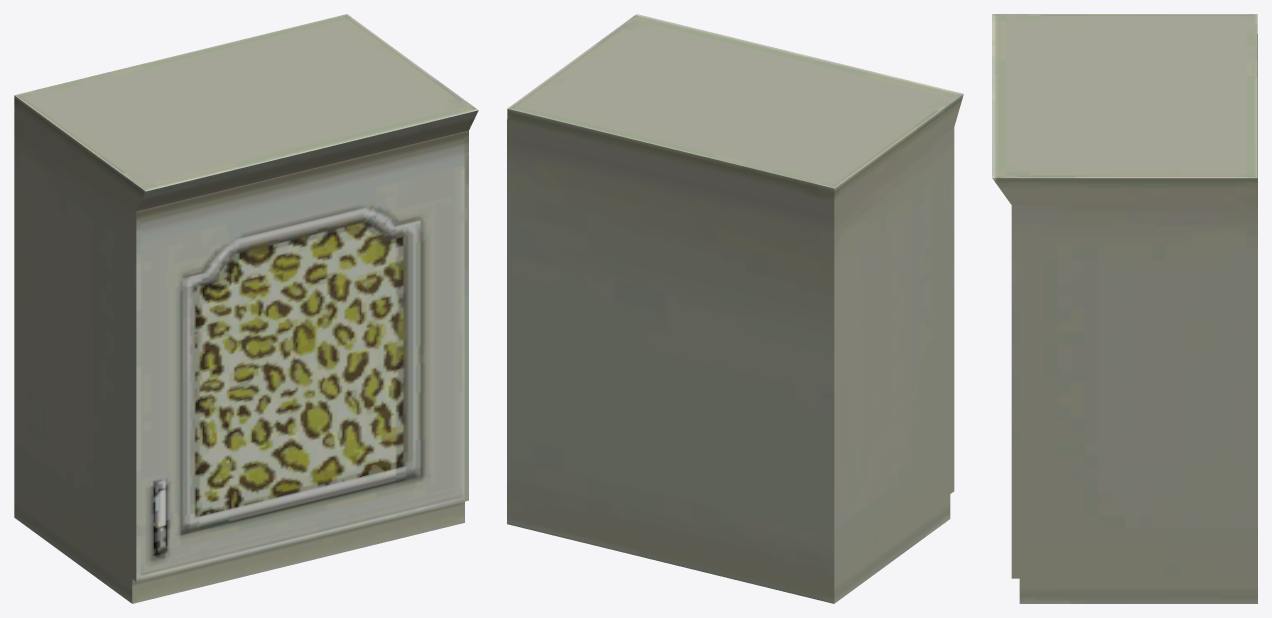
Rendered from furni_0200086_01.FBX.
The picture shows the model from 3 angles, left to right: view 1: azimuth 30°, elevation 25°; view 2: azimuth 150°, elevation 25°; view 3: azimuth 270°, elevation 25°; orthographic projection. The views are drawn at different scales.
Visible parts, largest first — view 1: furni_0200086_01; view 2: furni_0200086_01; view 3: furni_0200086_01.
Part boxes in pixels (x1,y1,x2,y2): furni_0200086_01: (14,14,478,603); furni_0200086_01: (507,14,963,603); furni_0200086_01: (992,14,1257,603).
Bounding box in the file's own units: 80.02 × 97.02 × 54.87.
Materials: 1 (1 with a texture image).
